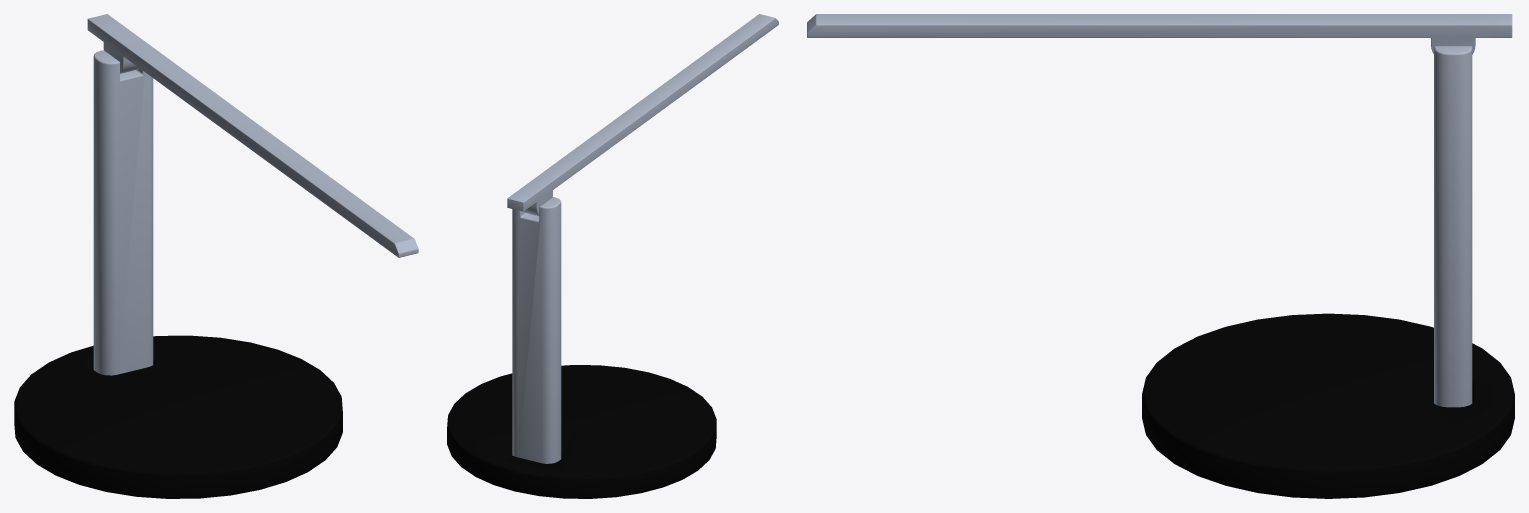
File: desk_lamp.opt.glb
3 views of the same model, side by side, from view 1: azimuth 30°, elevation 25°; view 2: azimuth 150°, elevation 25°; view 3: azimuth 270°, elevation 25° (orthographic). The views are drawn at different scales.
Parts seen in each view (by area): view 1: Cylinder_Rough Black Texture_0, Cube.001_Rough Light Blue Texture_0; view 2: Cylinder_Rough Black Texture_0, Cube.001_Rough Light Blue Texture_0; view 3: Cylinder_Rough Black Texture_0, Cube.001_Rough Light Blue Texture_0.
Boxes of the visible parts, x1,y1,x2,y2 form: Cylinder_Rough Black Texture_0: [14, 335, 342, 498]; Cube.001_Rough Light Blue Texture_0: [87, 14, 418, 375]; Cylinder_Rough Black Texture_0: [447, 365, 716, 498]; Cube.001_Rough Light Blue Texture_0: [507, 14, 778, 463]; Cylinder_Rough Black Texture_0: [1142, 313, 1514, 498]; Cube.001_Rough Light Blue Texture_0: [807, 14, 1512, 407].
Bounding box in the file's own units: 0.1016 × 0.1209 × 0.1929.
